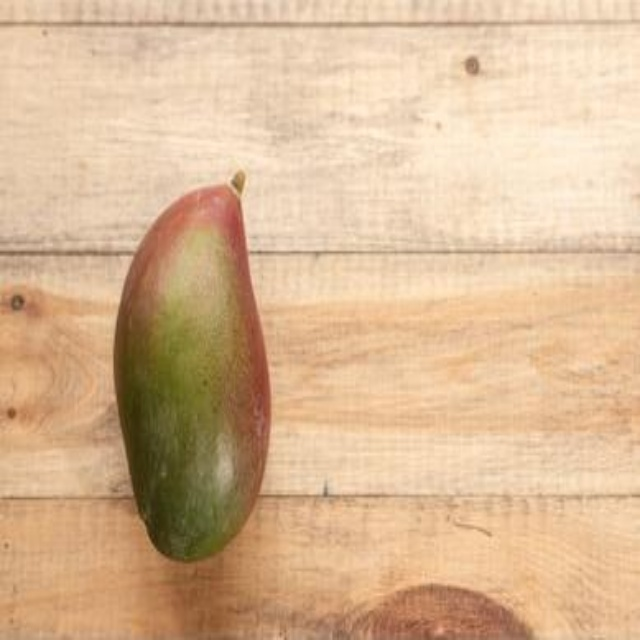mango: (109, 171, 276, 567)
